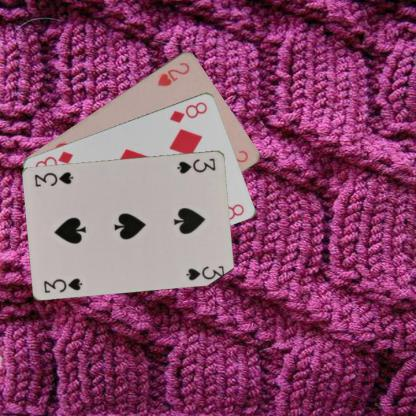2h: (155, 59, 191, 87)
3s: (42, 275, 84, 294), (174, 156, 216, 174)
8d: (167, 99, 209, 124)
